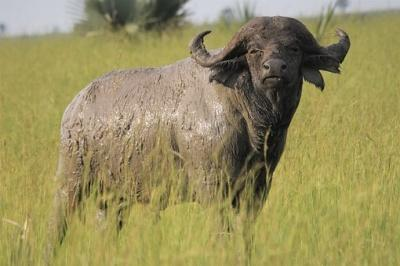buffalo: (50, 16, 350, 248)
